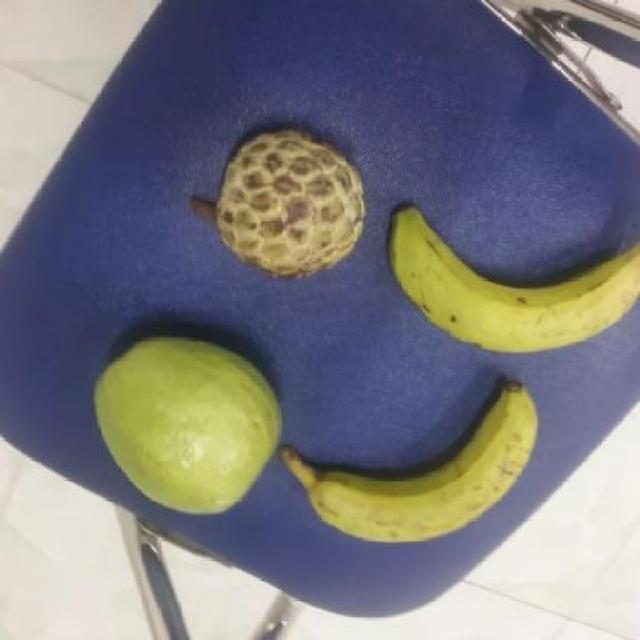banana: (274, 373, 532, 544), (381, 208, 640, 354)
guava: (86, 335, 283, 512)
sugar apple: (196, 131, 361, 278)
